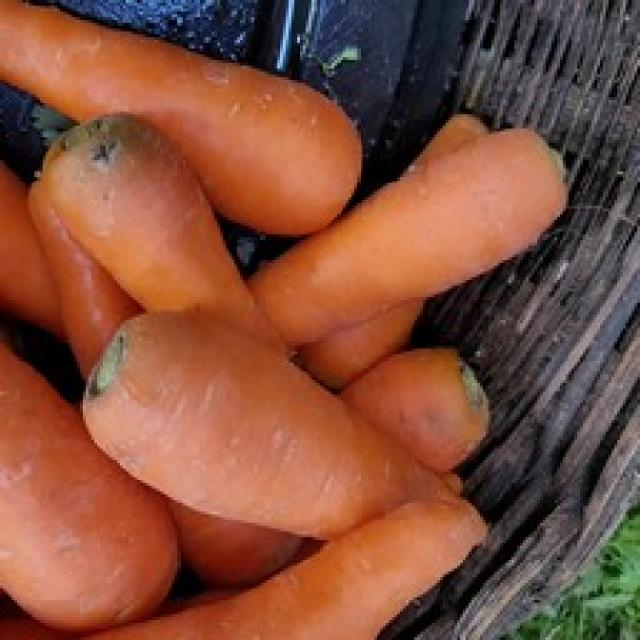Fresh_Carrot: (76, 310, 467, 539), (3, 0, 350, 235), (255, 134, 558, 354)
